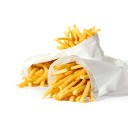frenchfries: (51, 62, 91, 102), (50, 26, 98, 46), (20, 64, 50, 87)
